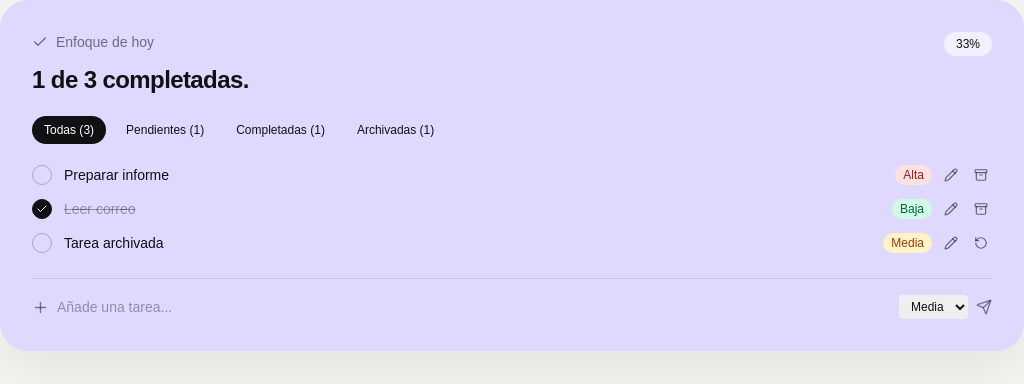
Test case: TasksWidget › filters tasks through accessible tabs
The image size is (1024, 384).
Step 1. Click the tab "Completadas (1)" → point(280, 130), box [224,116,337,144]
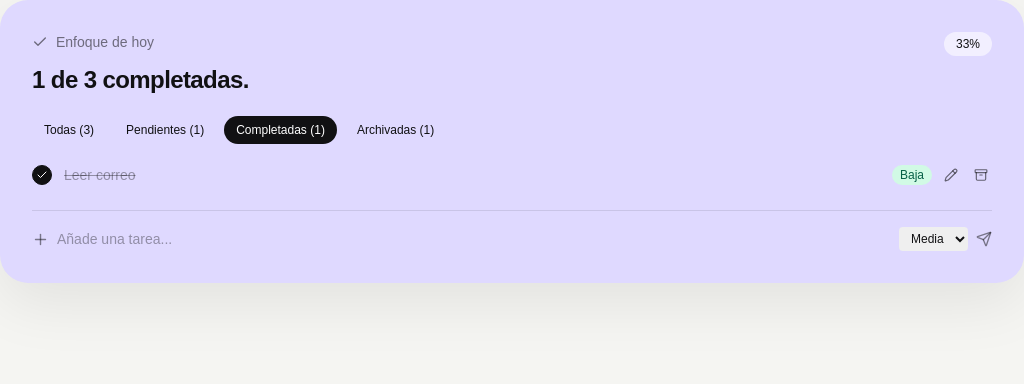
Expected: the text "Leer correo" is shown, [64,167,136,183]
Expected: the button "Preparar informe" is gone
